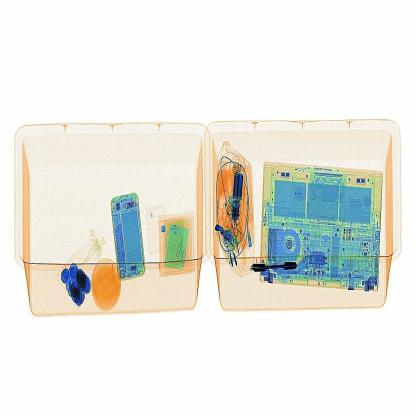knife: (248, 257, 302, 278)
